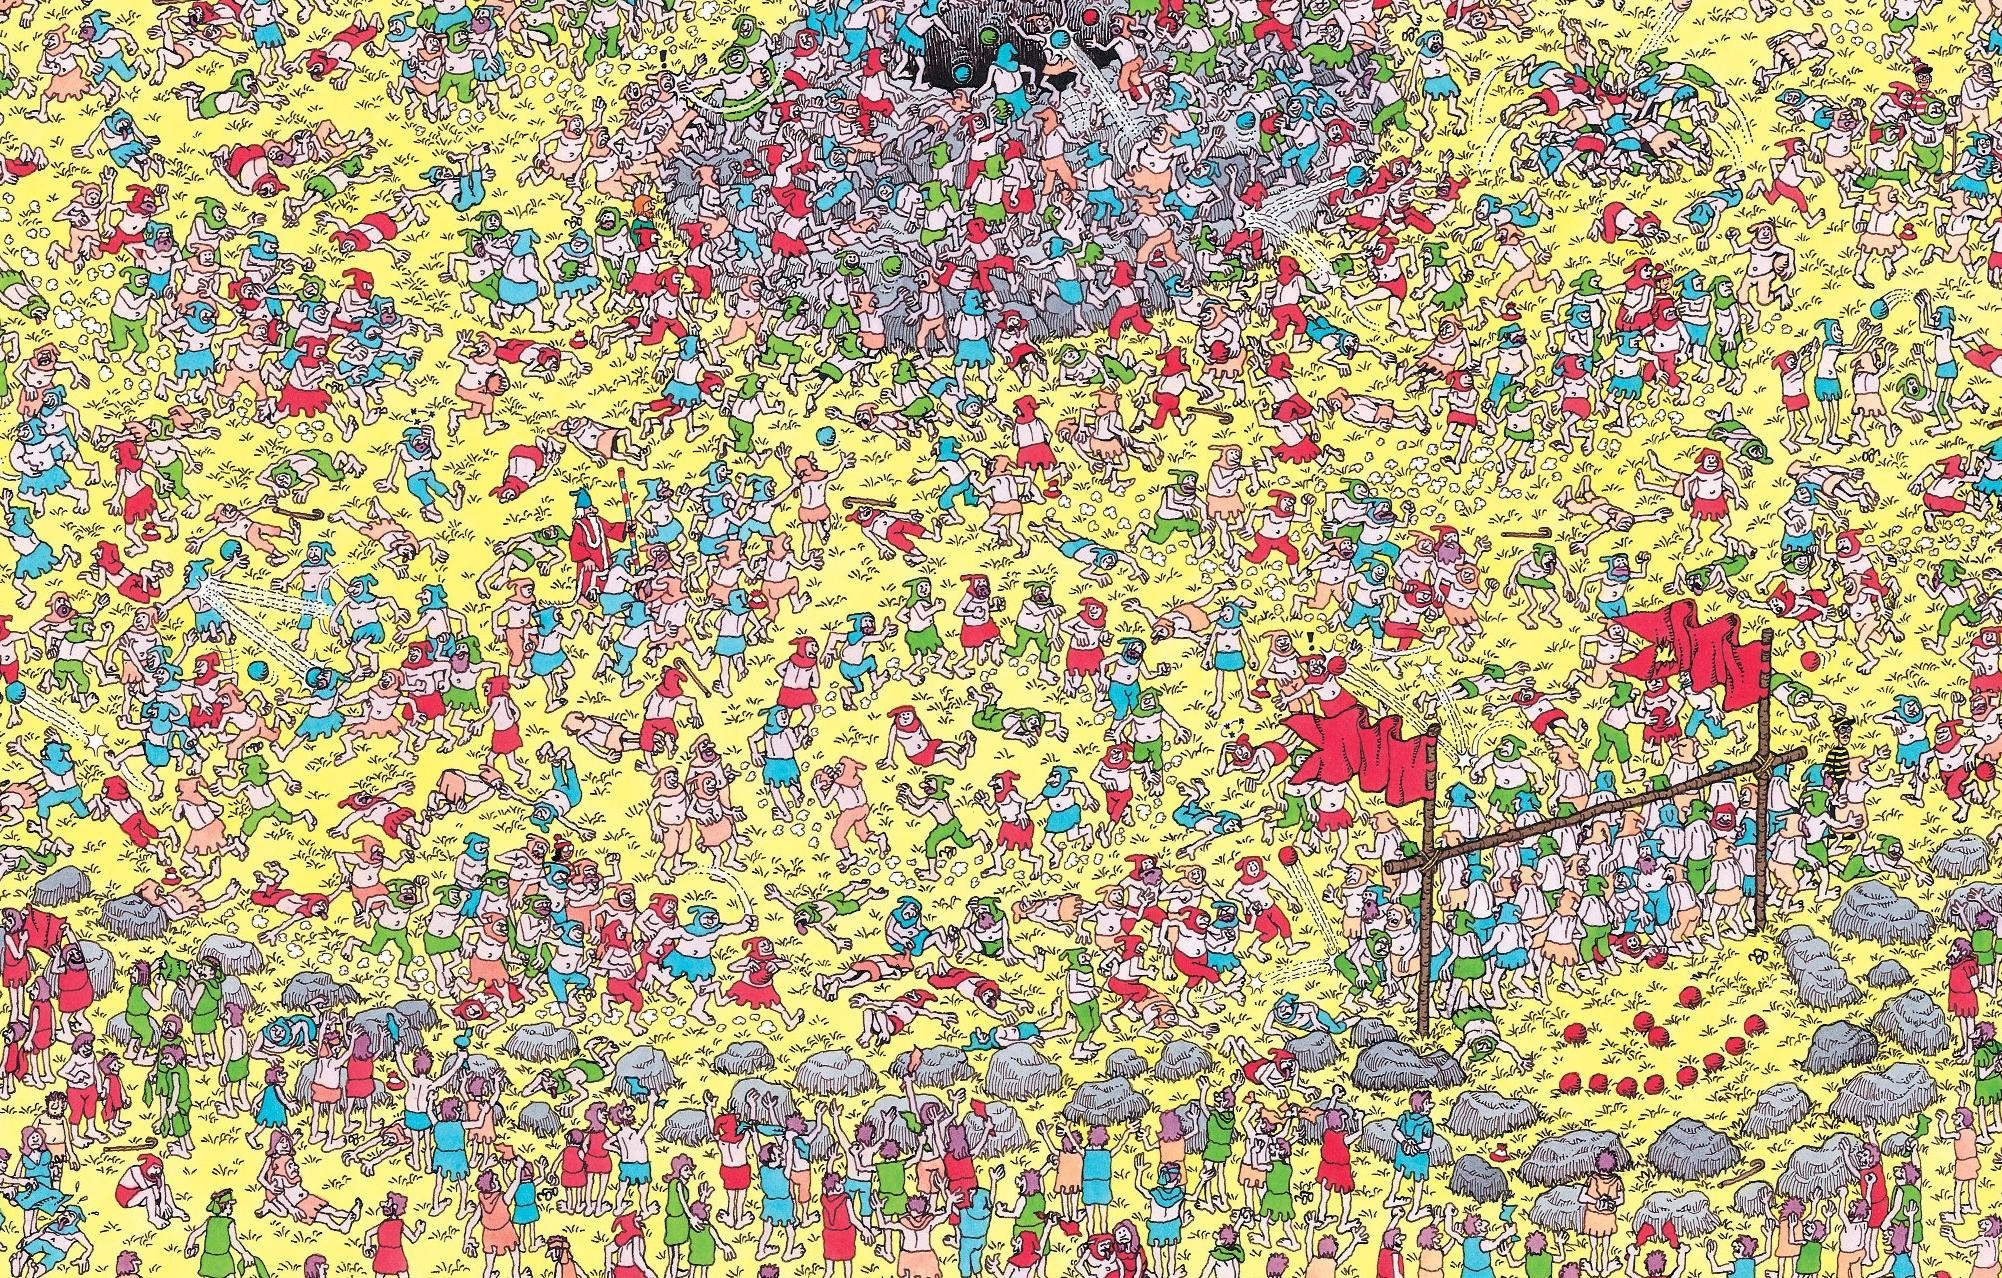Waldo: (1906, 50, 1941, 96)
